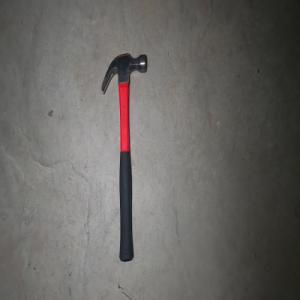Hammer: (100, 51, 147, 263)
